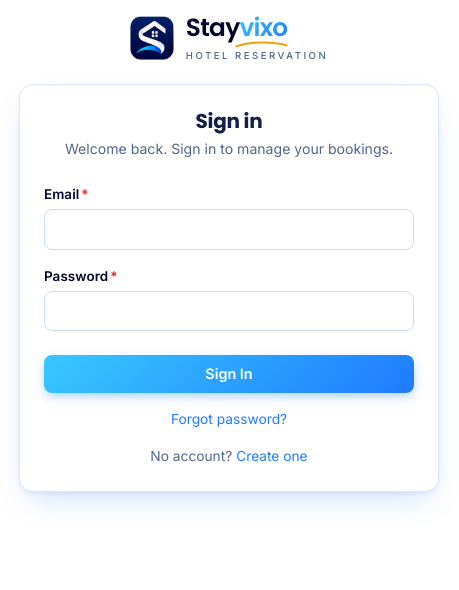
Scenario: Login page › shows the API error message and stays on the page when login fails
This screenshot has width=459, height=590.
In the field labelled "Email*": x=229, y=229 [44, 209, 414, 250], type "customer@example.com"
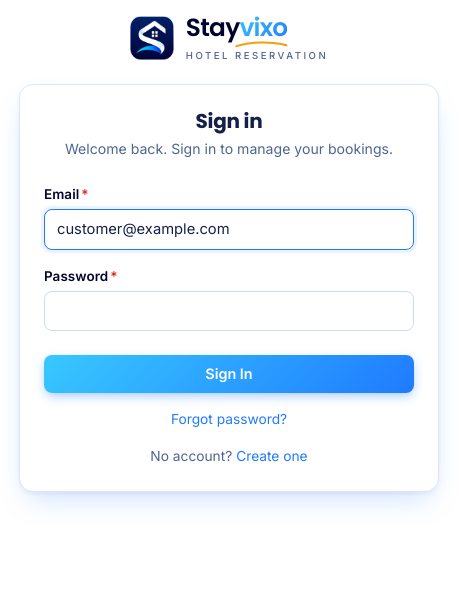
In the password field labelled "Password*": x=229, y=311 [44, 291, 414, 332], type "wrong-password"
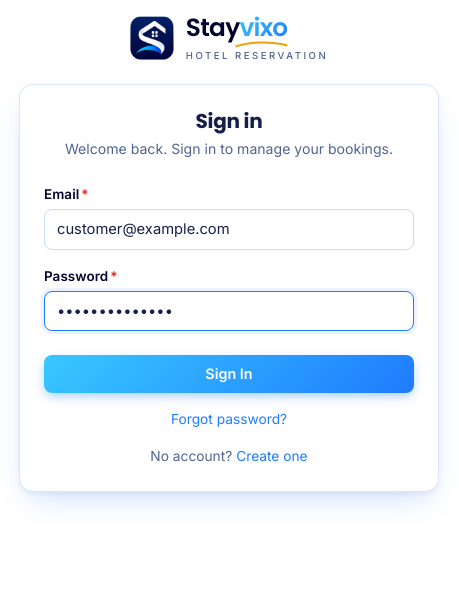
Click the button "Sign In": x=229, y=374 [44, 356, 414, 393]
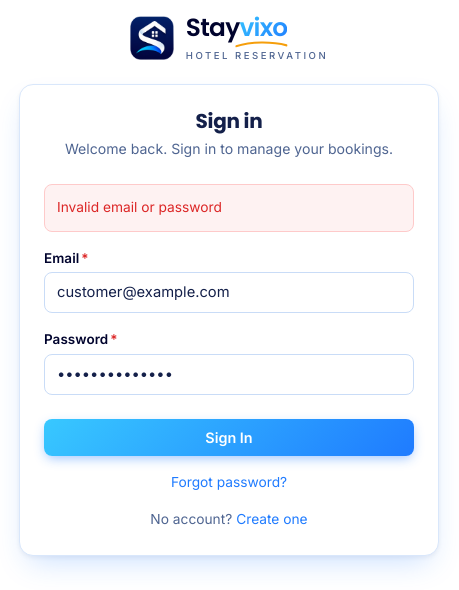
Expected: the heading "Sign in" is shown, [196, 107, 262, 135]
Result: the text "Invalid email or password" is shown at [44, 184, 414, 232]
